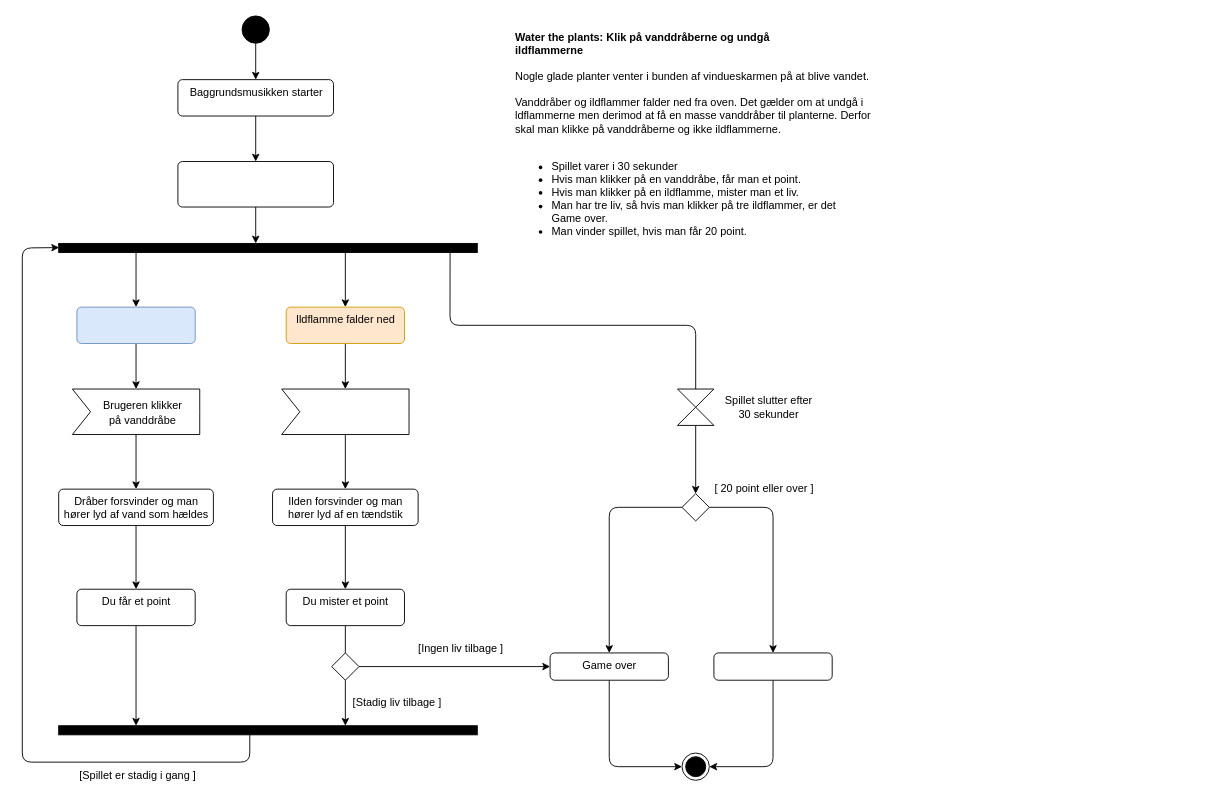
This 1221x805 diagram has some shape labels left out. Here are the shapes that lost their labels. From the top down, the centre of each, then its label:
At point (255, 184): "De glade planter ses i bunden af vindueskarmen".
At point (135, 325): "Vanddråbe falder ned".
At point (345, 411): "Brugeren klikker på ildflamme".
At point (772, 666): "Level complete".
